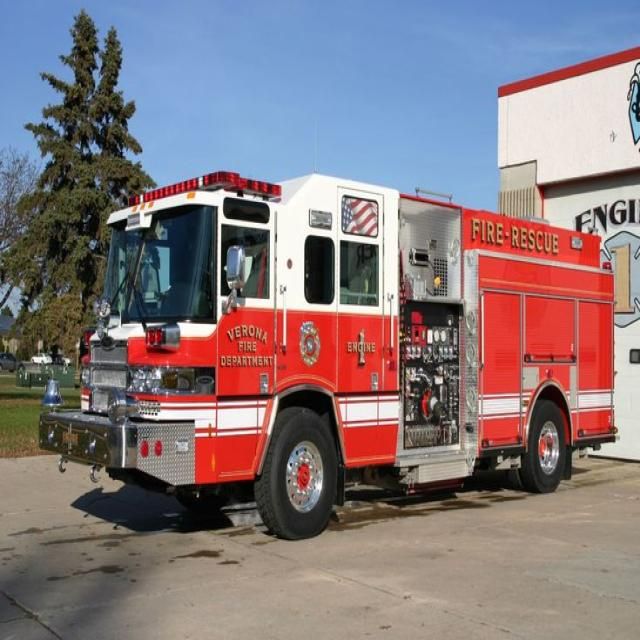Firetruck: (25, 164, 630, 547)
